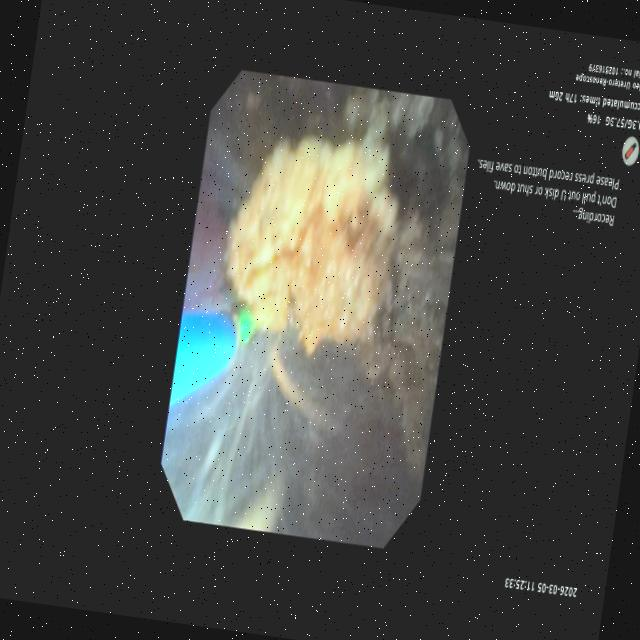laser_dot: (236, 307, 255, 343)
stone-new: (227, 130, 448, 475), (345, 90, 434, 139)
